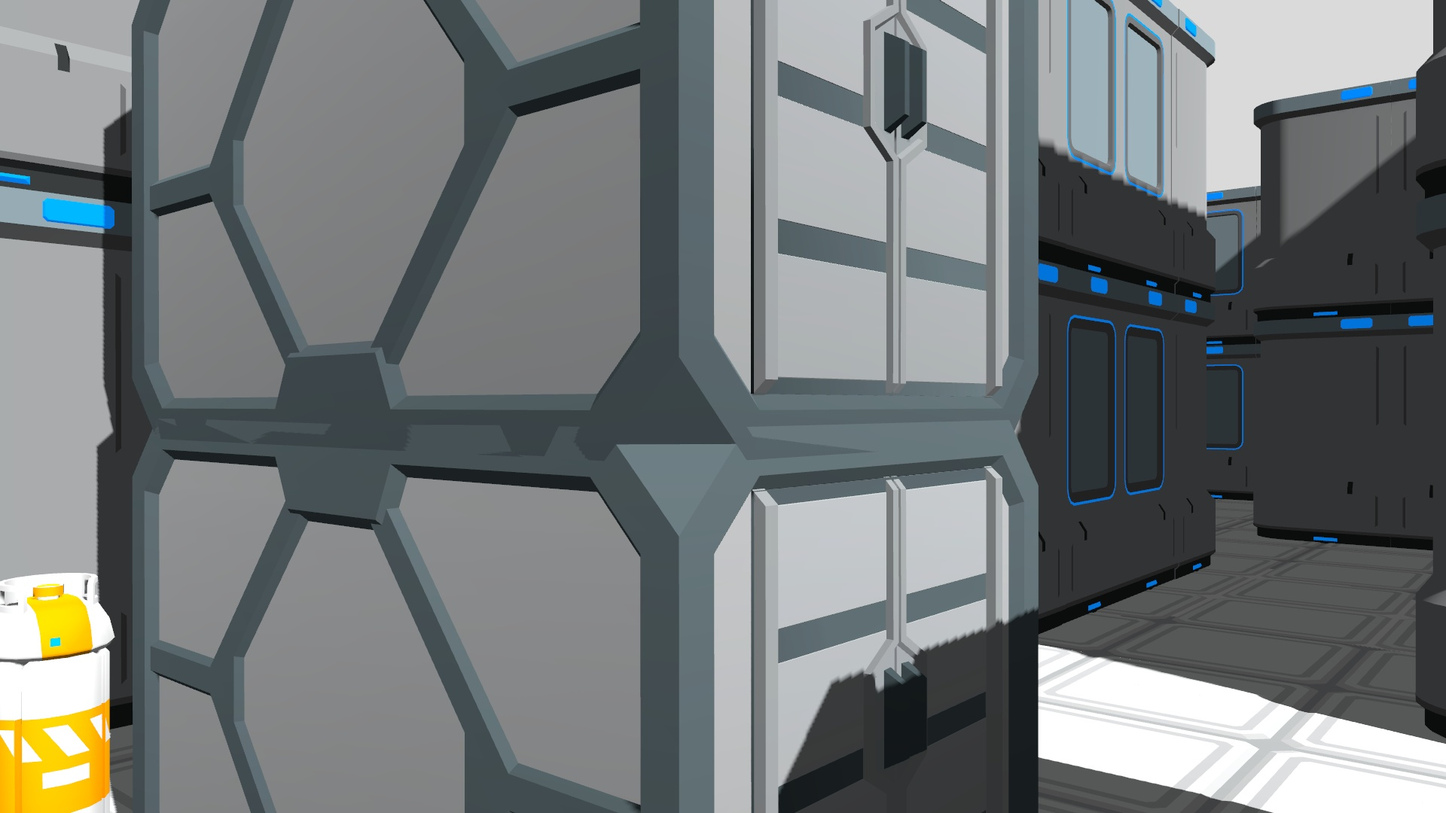yellow_barrel: (0, 562, 117, 813)
